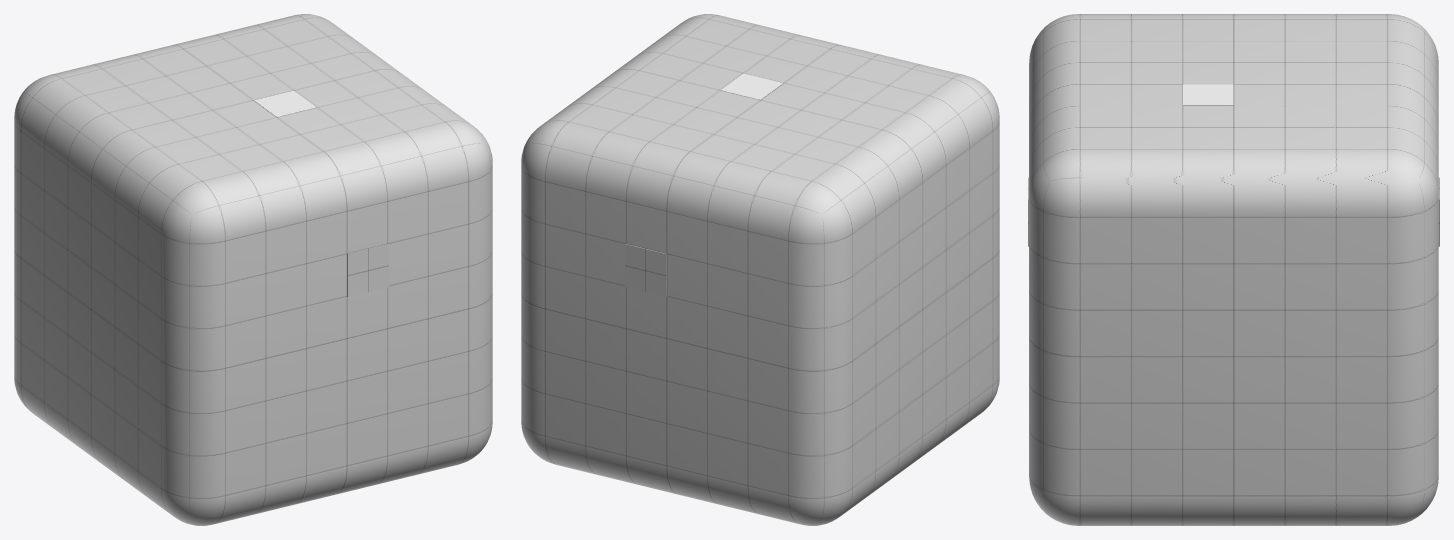
The model's file is test-lvl.glb.
The picture shows the model from 3 angles, left to right: view 1: azimuth 30°, elevation 25°; view 2: azimuth 150°, elevation 25°; view 3: azimuth 270°, elevation 25°; orthographic projection. The views are drawn at different scales.
Parts seen in each view (by area): view 1: map, Cube.001, Cube; view 2: map, Cube.001, Cube; view 3: map, Cube.
Part boxes in pixels (x1,y1,x2,y2): map: (14, 14, 492, 525); Cube.001: (347, 244, 388, 296); Cube: (254, 90, 316, 116); map: (521, 14, 999, 525); Cube.001: (625, 244, 666, 296); Cube: (720, 73, 782, 99); map: (1029, 14, 1438, 525); Cube: (1183, 84, 1233, 105).
Size of the model in its own units: 142 by 142 by 143.
Materials: 7 (3 with a texture image).
